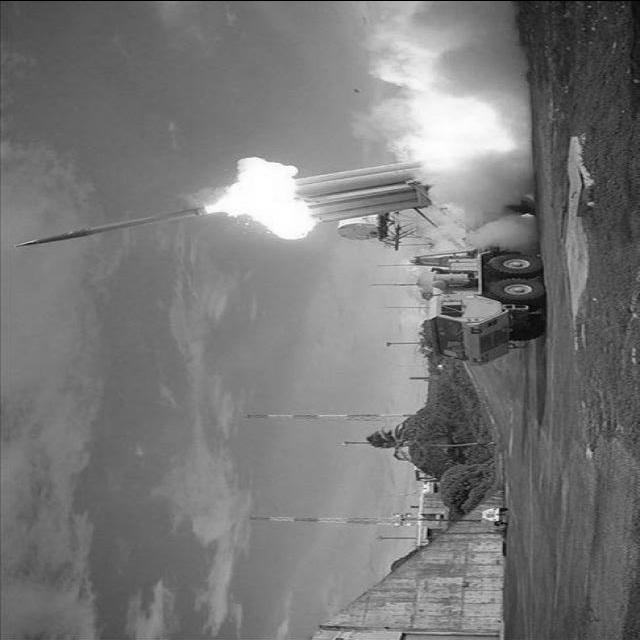missile: (10, 204, 204, 249)
